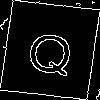Q: (25, 24, 76, 77)
